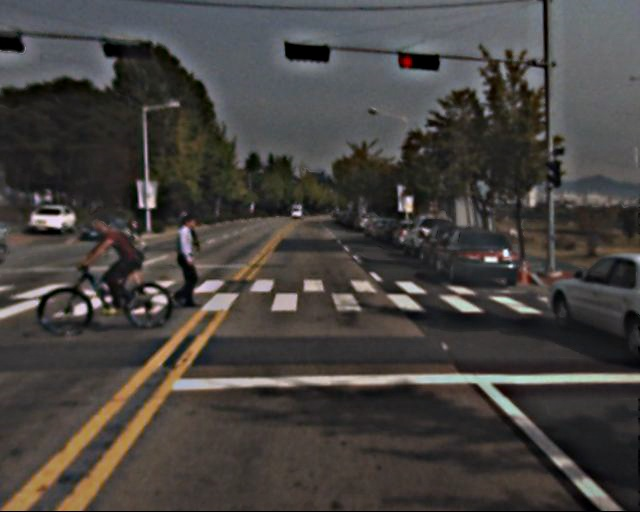person: (90, 205, 152, 314), (168, 207, 209, 310)
